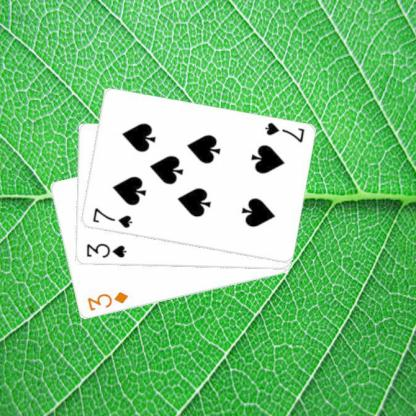3D: (84, 289, 130, 313)
3S: (83, 241, 127, 259)
7S: (262, 120, 306, 145), (90, 206, 134, 230)
